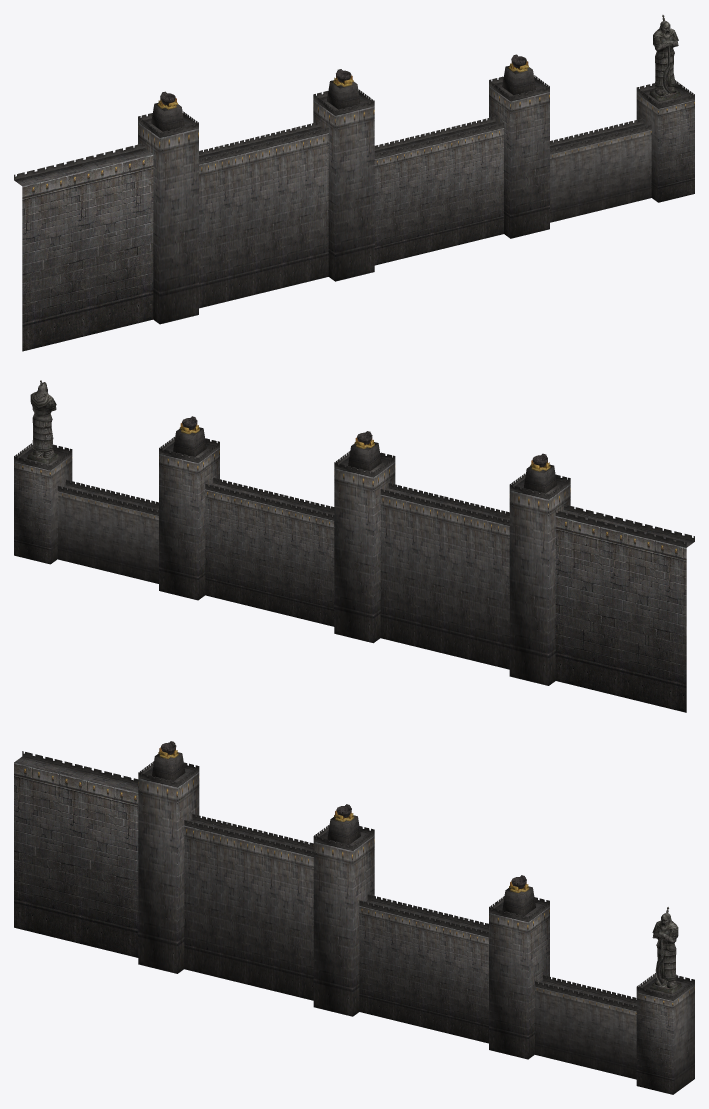
File: c_jin_wall3_orwall.glb
3 renders of one model, top to bottom at view 1: azimuth 30°, elevation 25°; view 2: azimuth 150°, elevation 25°; view 3: azimuth 330°, elevation 25°, orthographic.
Parts seen in each view (by area): view 1: C_jin_wall3_orwall, C_jin_wall3_ealpha, C_jin_wall3_master, C_jin_wall3_fire; view 2: C_jin_wall3_orwall, C_jin_wall3_ealpha, C_jin_wall3_master, C_jin_wall3_fire; view 3: C_jin_wall3_orwall, C_jin_wall3_ealpha, C_jin_wall3_master, C_jin_wall3_fire.
Boxes of the visible parts, <box> form: C_jin_wall3_orwall: <box>14,65,694,351</box>; C_jin_wall3_ealpha: <box>14,75,694,180</box>; C_jin_wall3_master: <box>649,15,680,101</box>; C_jin_wall3_fire: <box>157,54,528,109</box>; C_jin_wall3_orwall: <box>14,427,694,712</box>; C_jin_wall3_ealpha: <box>14,437,694,547</box>; C_jin_wall3_master: <box>27,380,58,464</box>; C_jin_wall3_fire: <box>179,416,550,471</box>; C_jin_wall3_orwall: <box>14,752,694,1094</box>; C_jin_wall3_ealpha: <box>22,751,694,1011</box>; C_jin_wall3_master: <box>650,907,681,993</box>; C_jin_wall3_fire: <box>158,741,529,892</box>.
Size of the model in its own units: 277 by 86.19 by 15.72.
4 materials, 4 textured.
